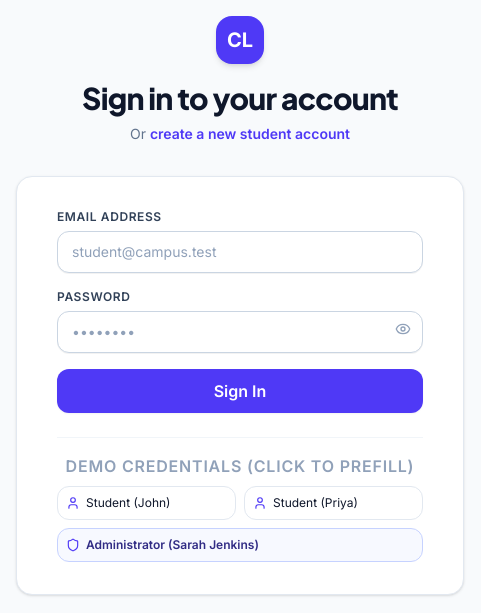
it: Login Page › fills inputs with quick demo student credentials
This screenshot has width=481, height=613.
Click the button "Student (John)".
click(146, 503)  # box [57,486,236,520]
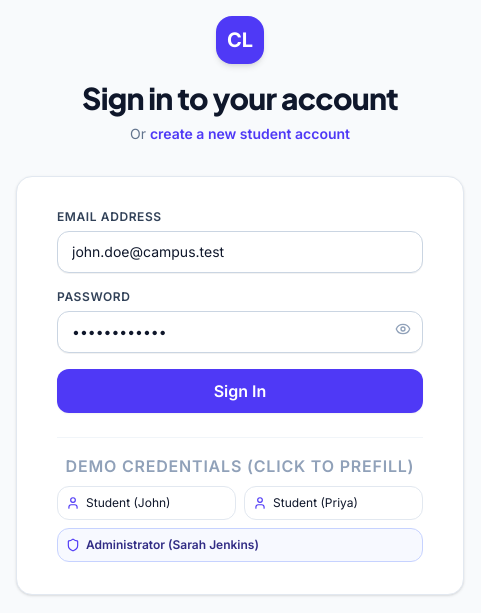
Result: the field labelled "Email Address" holds "john.doe@campus.test" at [57,231,423,273]
